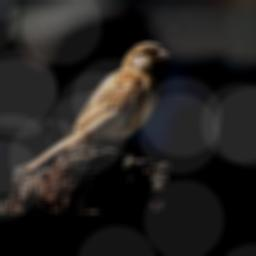Sparrow: (23, 40, 171, 172)
